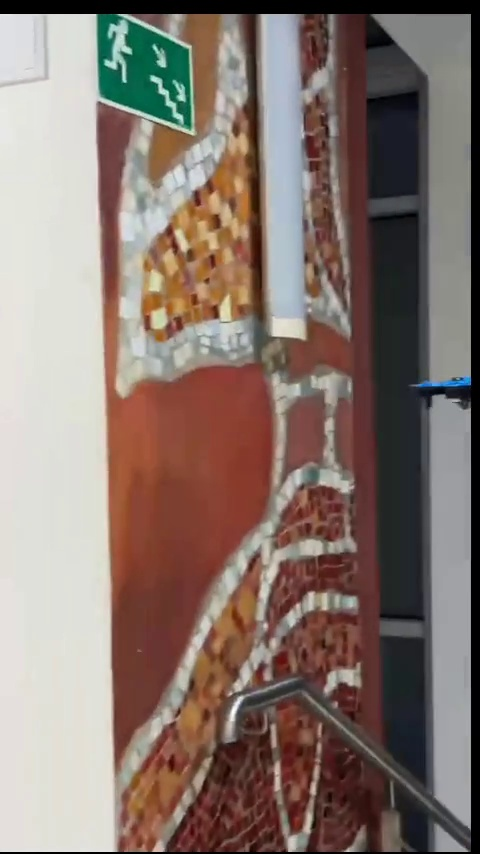drone: (414, 372, 480, 408)
